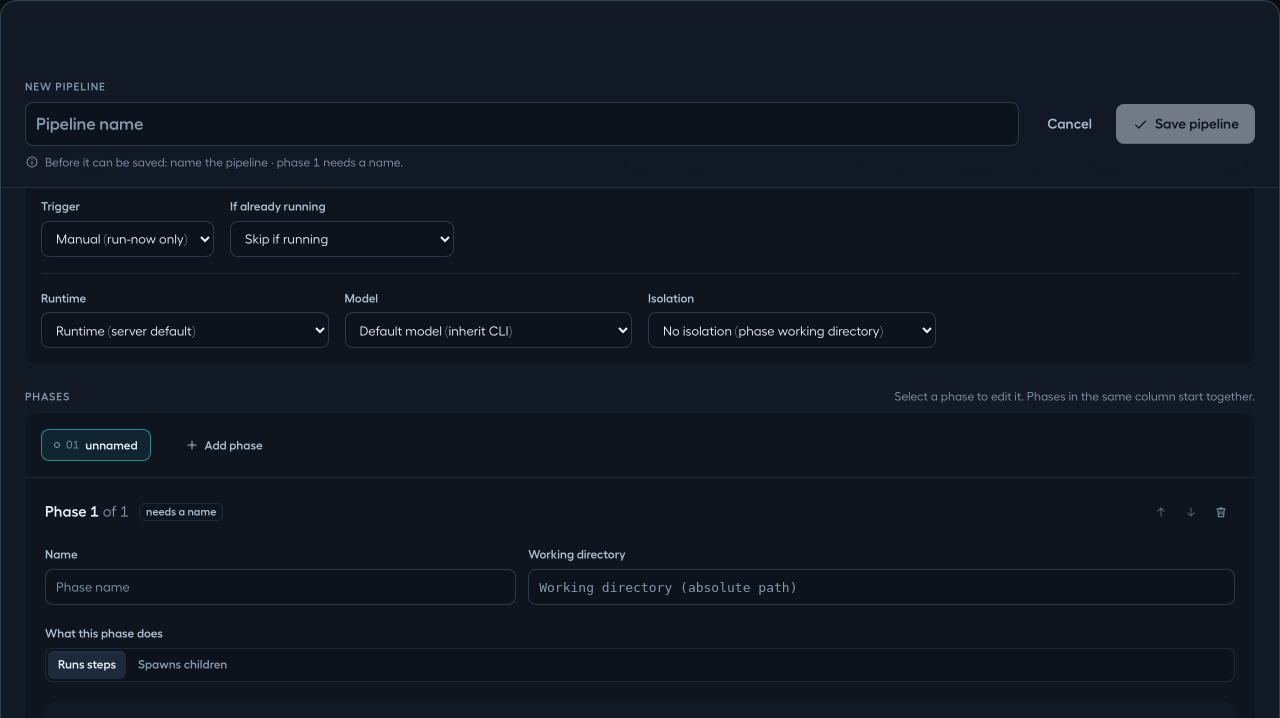
Test: PipelineForm › enables candidates from pipeline-wide isolation too
Select "Fresh worktree per attempt" in the dropdown labelled "Isolation". click: x=792, y=330
box: [648,312,936,348]
(page scrolled)
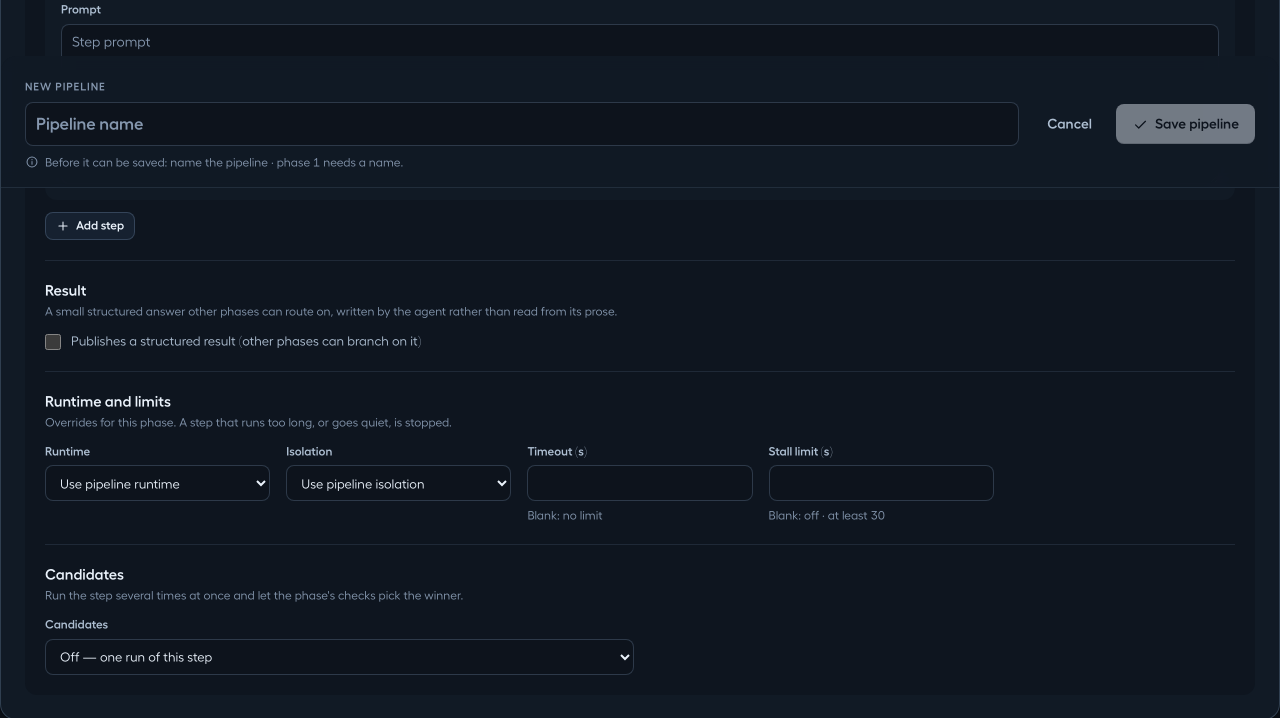
expect the dropdown named "Candidates (phase 1)" is enabled: met, box [45,639,634,675]
